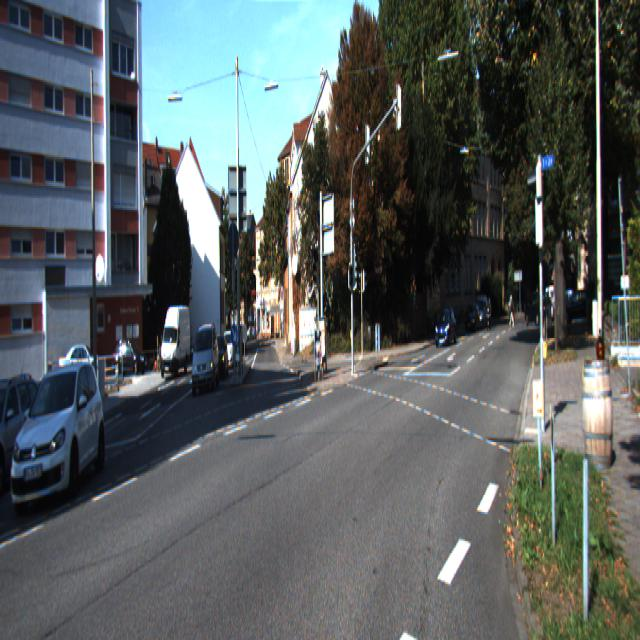Car: (9, 353, 107, 519), (159, 304, 190, 379), (191, 322, 219, 398), (57, 343, 102, 387), (434, 306, 457, 348)
